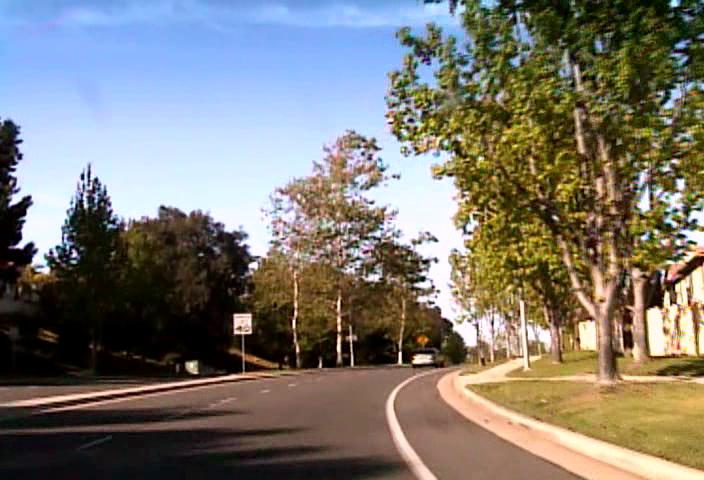speedLimit40: (232, 312, 252, 335)
